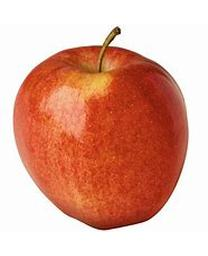apple: (13, 46, 190, 230)
